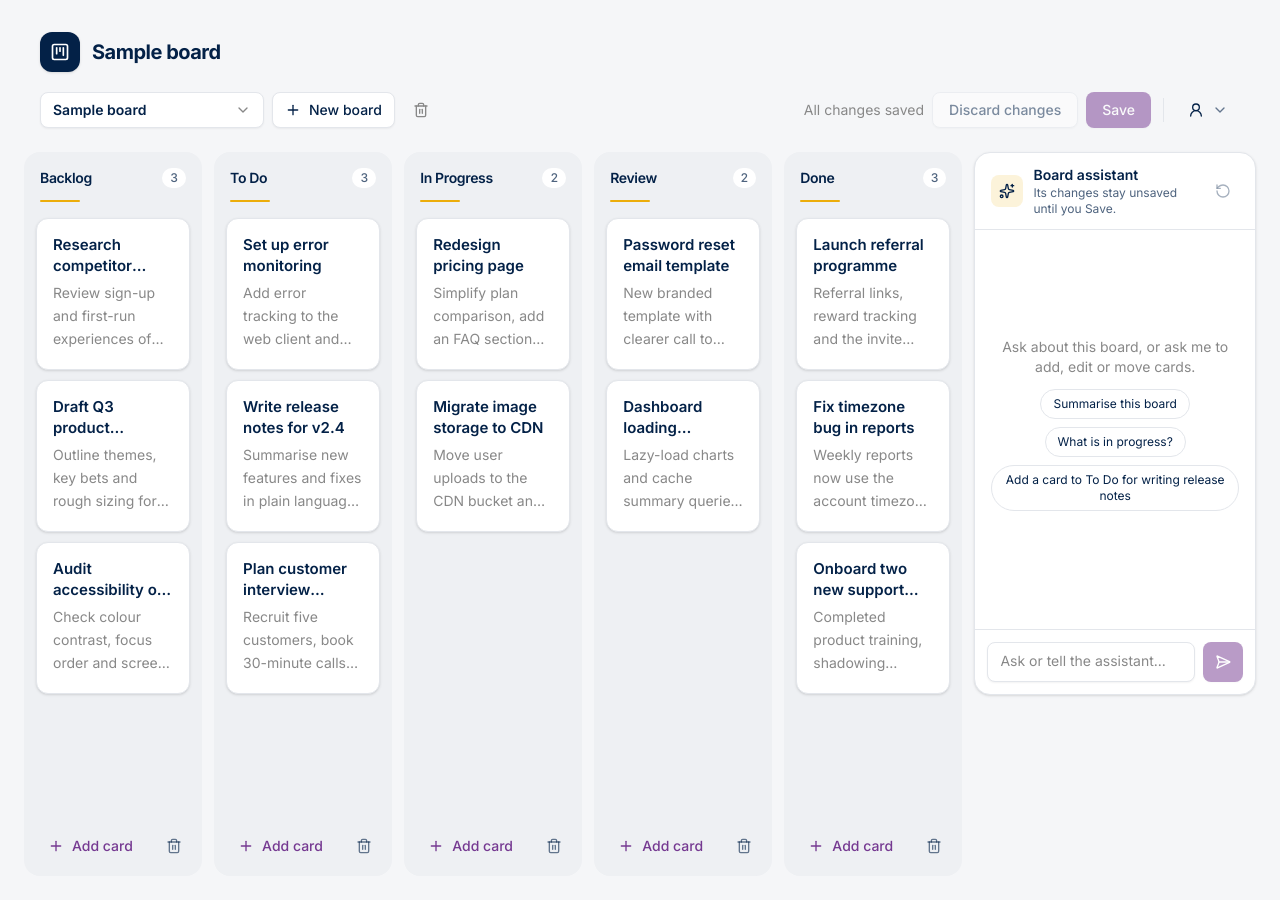
Test case: BoardApp › discards changes after confirmation
The image size is (1280, 900).
Click the button with aria-label "Rename column: Done": {"x": 853, "y": 178} [792,164,915,192]
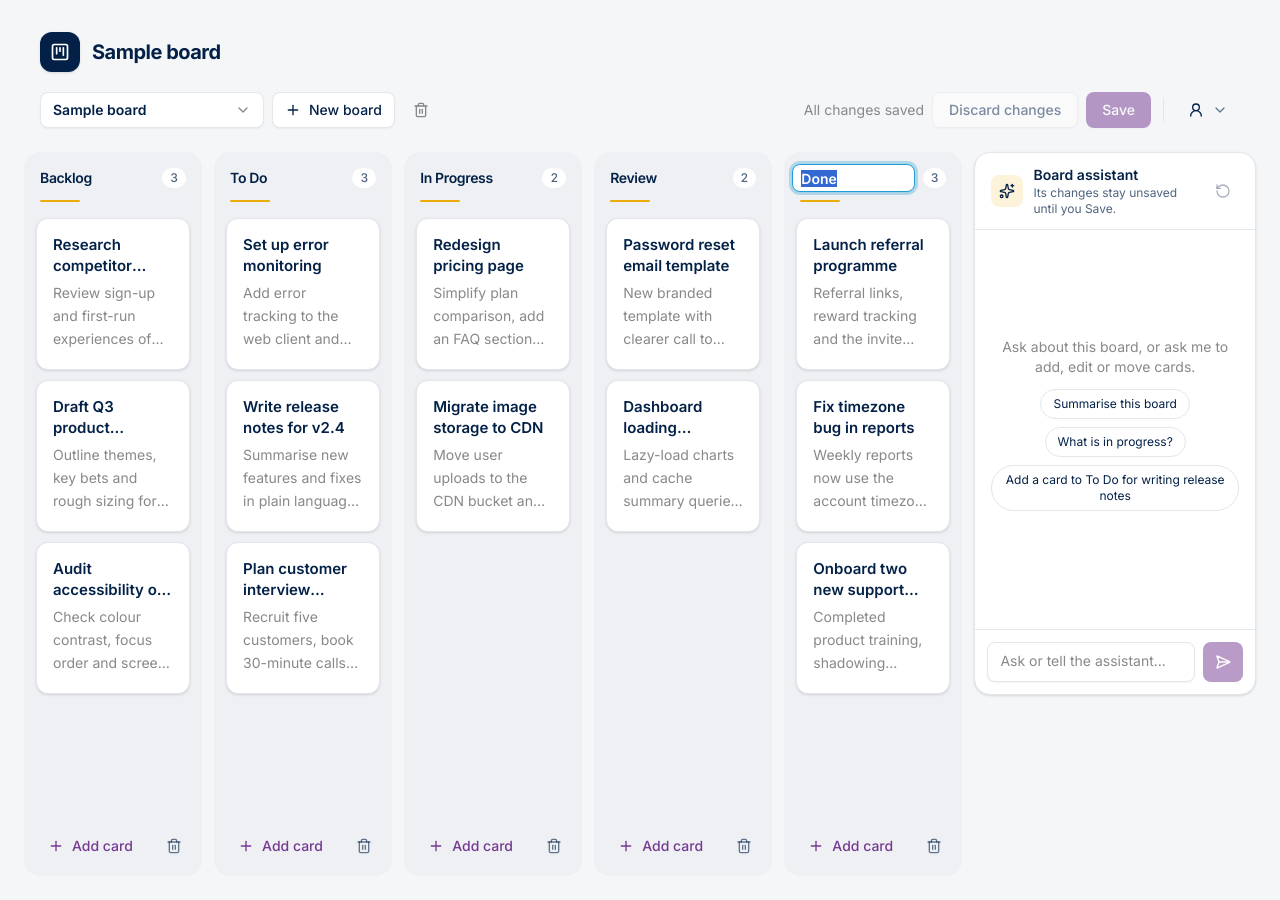
In the field named "Column name": {"x": 853, "y": 178} [792,164,915,192], type " now"
Then press Enter
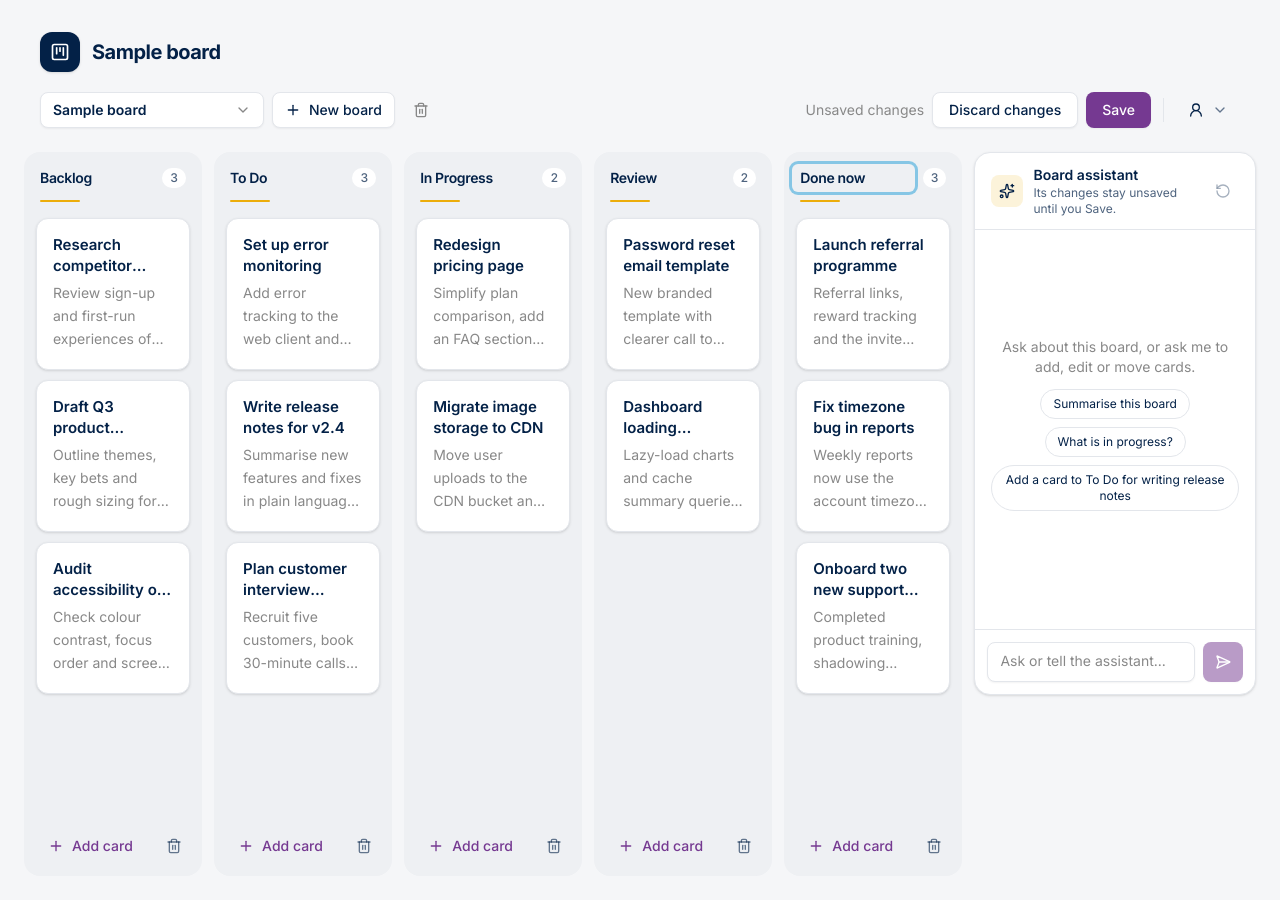
Click the button "Discard changes": {"x": 1005, "y": 110} [932,92,1078,128]
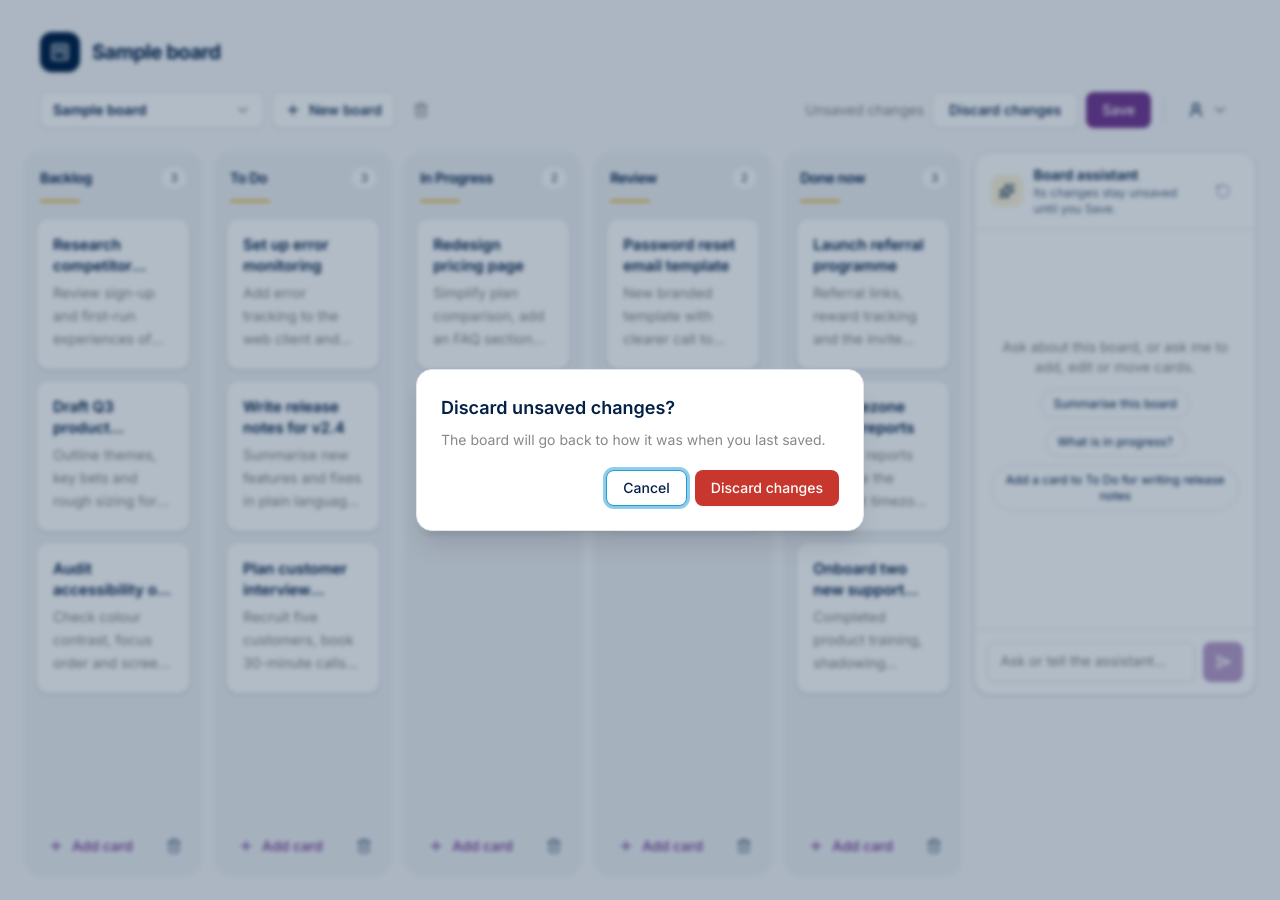
Click the button "Discard changes": {"x": 767, "y": 488} [695,470,839,506]
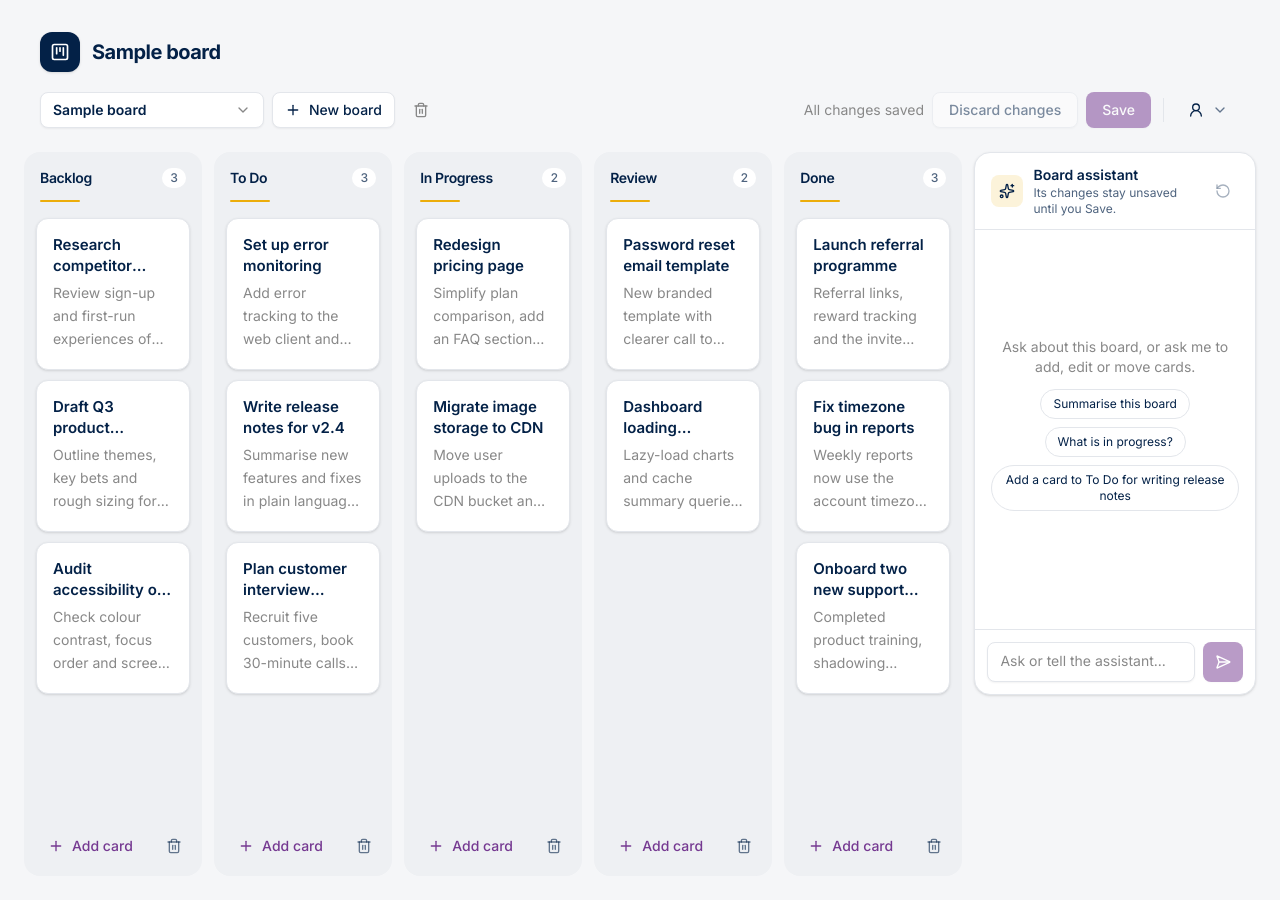
Result: the button "Done" is shown at [792,164,915,192]
Result: the button "Save" is disabled at [1086,92,1151,128]
